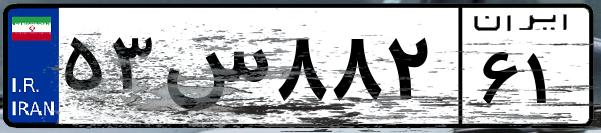1: (525, 38, 570, 115)
2: (385, 28, 445, 110)
3: (110, 28, 158, 98)
5: (57, 26, 110, 100)
6: (475, 38, 525, 113)
8: (270, 28, 330, 110), (330, 28, 385, 110)
س: (158, 20, 270, 120)
